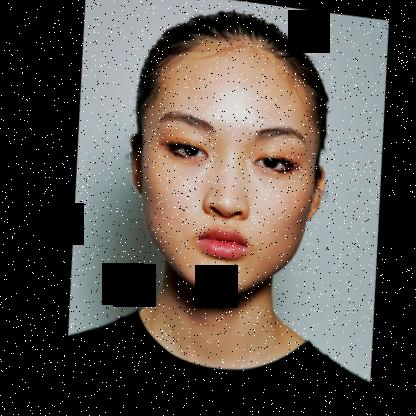Female: (99, 22, 348, 307)
